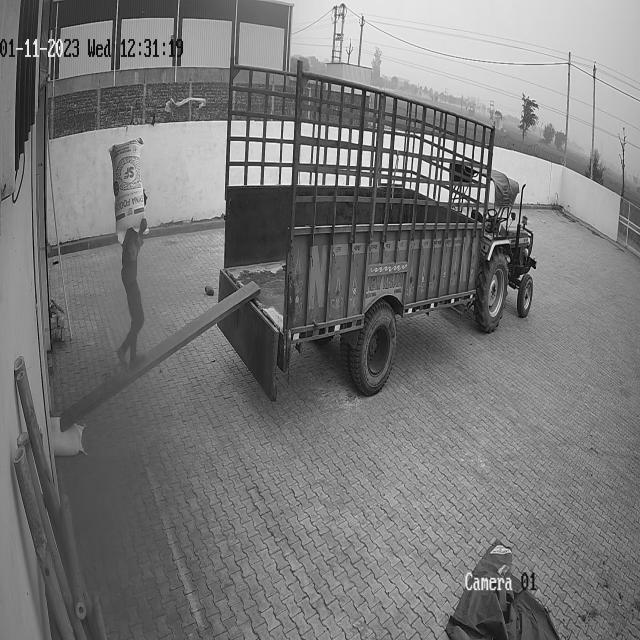sack: (109, 138, 148, 244), (49, 417, 84, 456)
